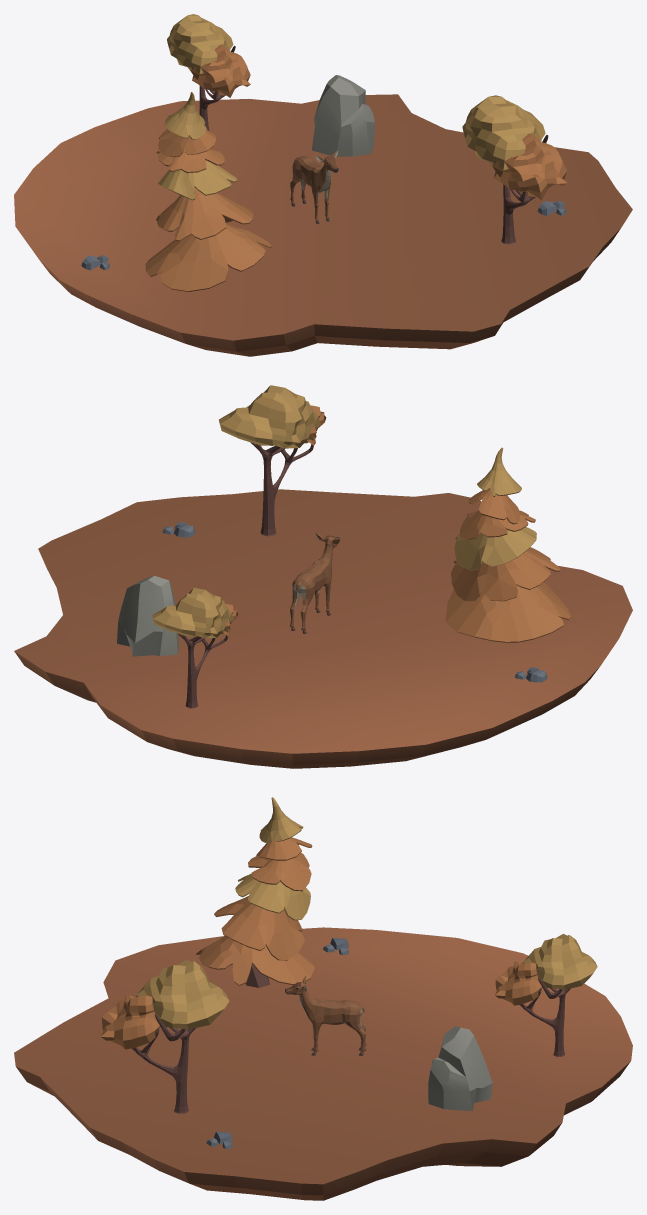
Rendered from island.glb.
The picture shows the model from 3 angles, top to bottom: view 1: azimuth 30°, elevation 25°; view 2: azimuth 150°, elevation 25°; view 3: azimuth 270°, elevation 25°; orthographic projection. The views are drawn at different scales.
Parts seen in each view (by area): view 1: Vert.001, PineTree_Autumn_3, CommonTree_Autumn_2, CommonTree_Autumn_2.001, Rock, Vert.002, Deer; view 2: Vert.001, PineTree_Autumn_3, CommonTree_Autumn_2, CommonTree_Autumn_2.001, Rock, Deer, Vert.002; view 3: Vert.001, PineTree_Autumn_3, CommonTree_Autumn_2, CommonTree_Autumn_2.001, Rock, Vert.002, Deer.
Boxes of the visible parts, <box> form: Vert.001: <box>14,94,632,351</box>; PineTree_Autumn_3: <box>145,92,271,291</box>; CommonTree_Autumn_2: <box>462,95,567,244</box>; CommonTree_Autumn_2.001: <box>167,14,250,130</box>; Rock: <box>311,75,374,156</box>; Vert.002: <box>188,336,491,356</box>; Deer: <box>290,150,338,223</box>; Vert.001: <box>14,489,632,764</box>; PineTree_Autumn_3: <box>446,447,570,642</box>; CommonTree_Autumn_2: <box>219,385,326,536</box>; CommonTree_Autumn_2.001: <box>152,588,237,708</box>; Rock: <box>117,575,178,656</box>; Deer: <box>290,533,340,633</box>; Vert.002: <box>56,686,481,768</box>; Vert.001: <box>14,927,632,1195</box>; PineTree_Autumn_3: <box>196,797,314,987</box>; CommonTree_Autumn_2: <box>101,960,229,1113</box>; CommonTree_Autumn_2.001: <box>495,934,597,1056</box>; Rock: <box>428,1026,492,1110</box>; Vert.002: <box>29,1083,588,1200</box>; Deer: <box>285,975,366,1055</box>.
Size of the model in its own units: 18.01 by 8.76 by 18.34.
17 materials, 1 textured.
